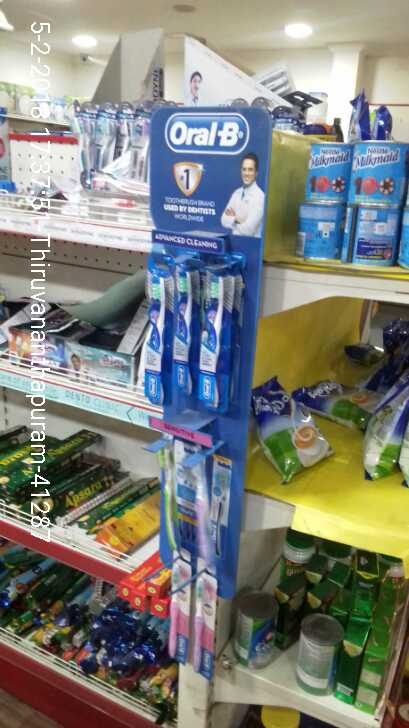oralb: (197, 263, 223, 406), (169, 261, 195, 395), (142, 269, 167, 403)
